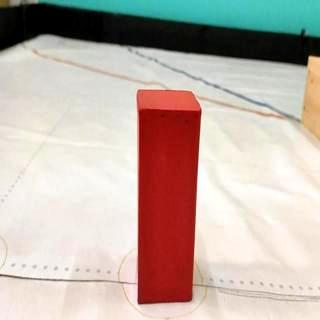redbox: (135, 87, 202, 302)
